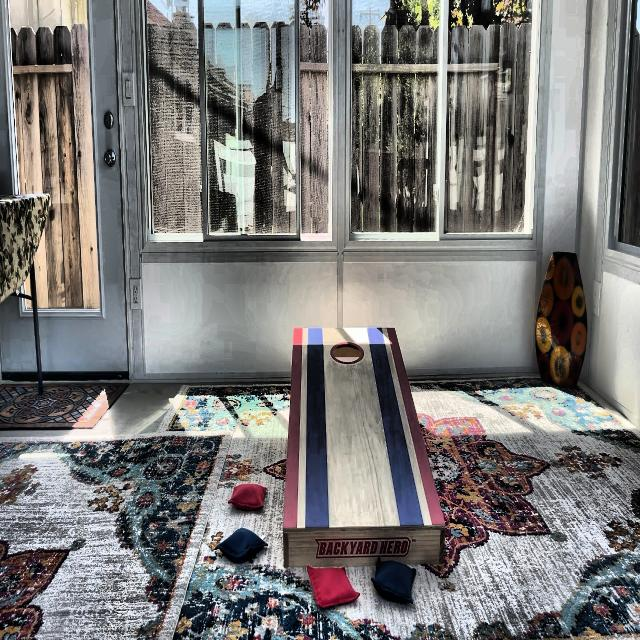blue-bean-bag: (371, 554, 417, 606), (217, 528, 269, 564)
board: (291, 327, 409, 528)
hole: (330, 340, 365, 365)
red-bean-bag: (307, 564, 360, 606), (228, 484, 266, 512)
